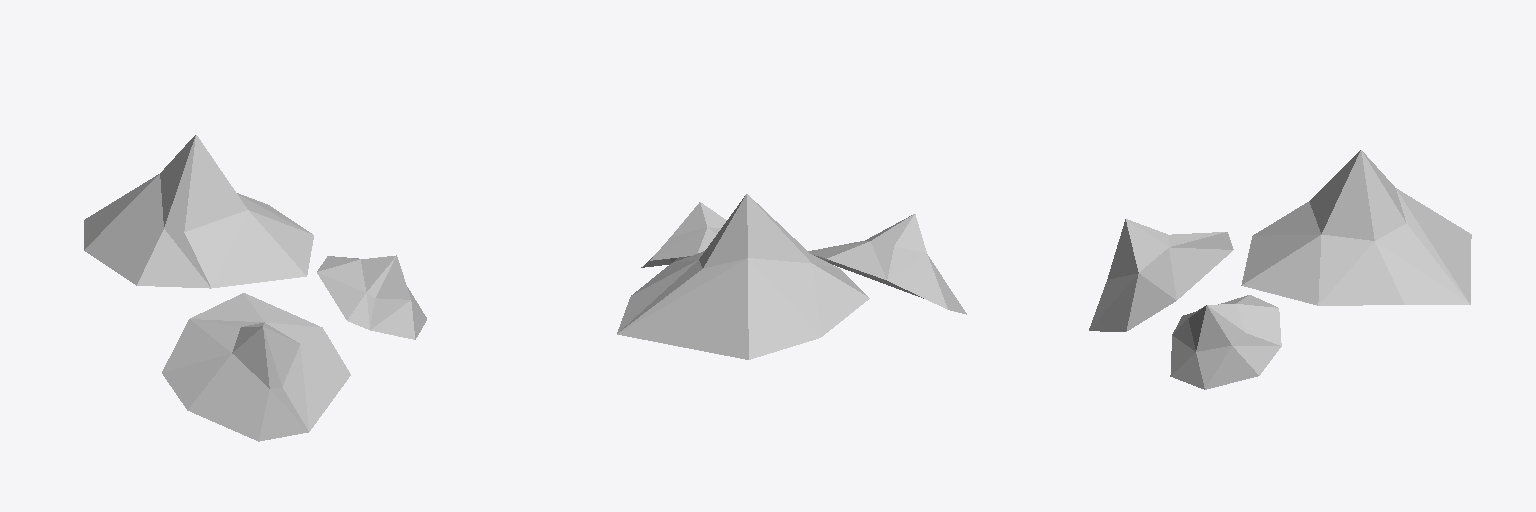
File: mountain.obj
The picture shows the model from 3 angles: view 1: azimuth 30°, elevation 25°; view 2: azimuth 150°, elevation 25°; view 3: azimuth 270°, elevation 25°; orthographic projection.
Parts seen in each view (by area): view 1: mountain_Plane.008; view 2: mountain_Plane.008; view 3: mountain_Plane.008.
Boxes of the visible parts, x1,y1,x2,y2 form: mountain_Plane.008: [84, 135, 426, 441]; mountain_Plane.008: [617, 194, 966, 359]; mountain_Plane.008: [1089, 150, 1471, 389].
Size of the model in its own units: 0.5638 by 0.3809 by 0.681.